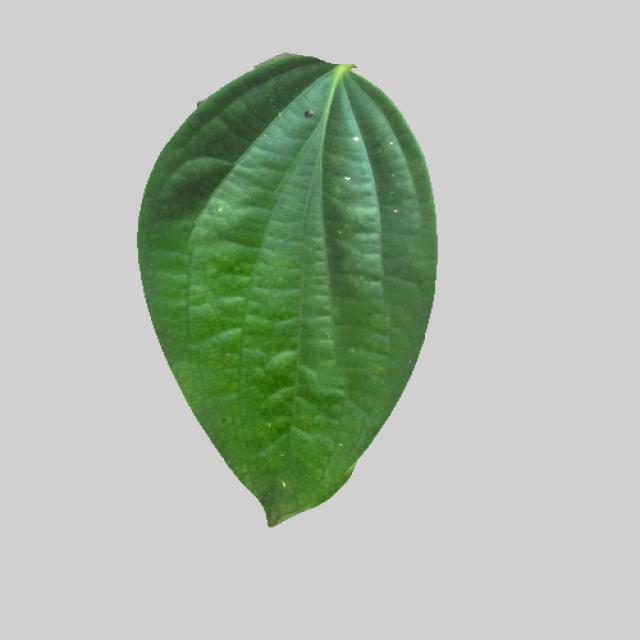healthy: (138, 54, 441, 525)
